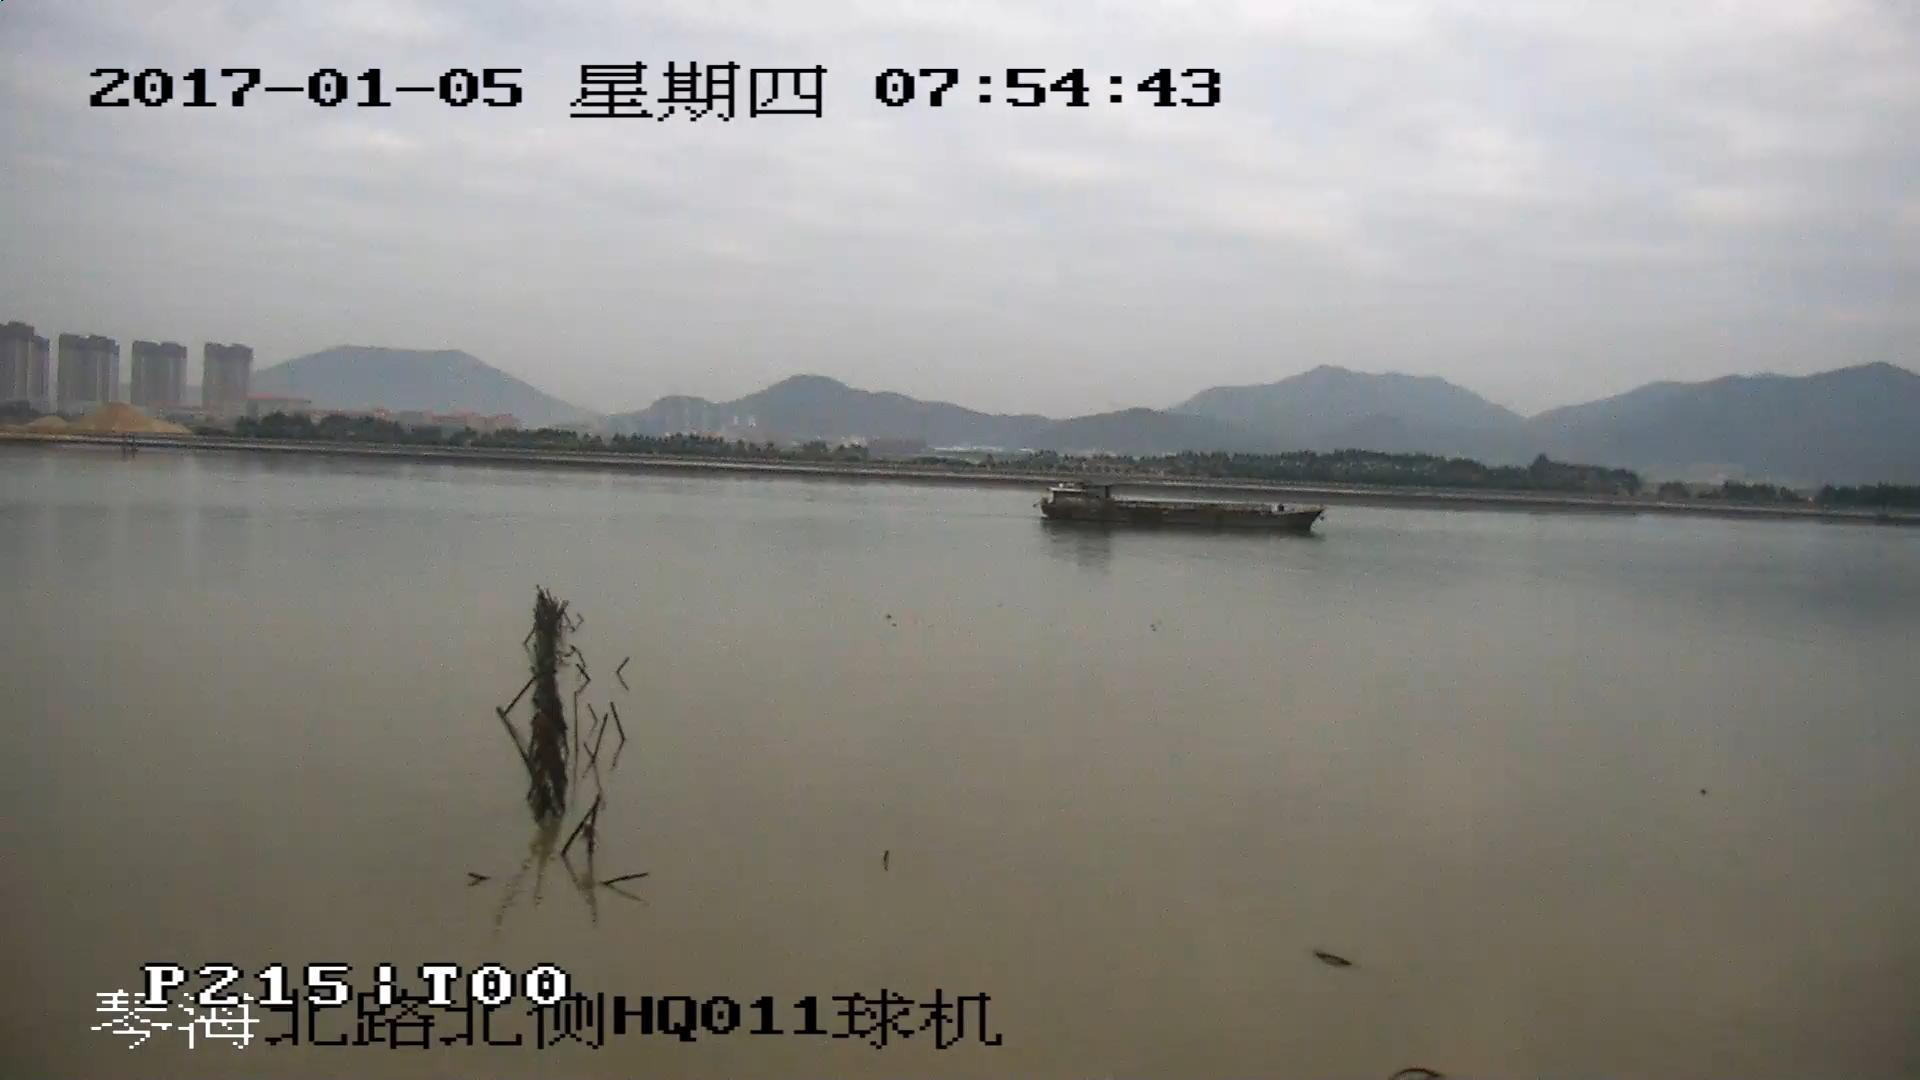Ship: (1038, 481, 1327, 534)
